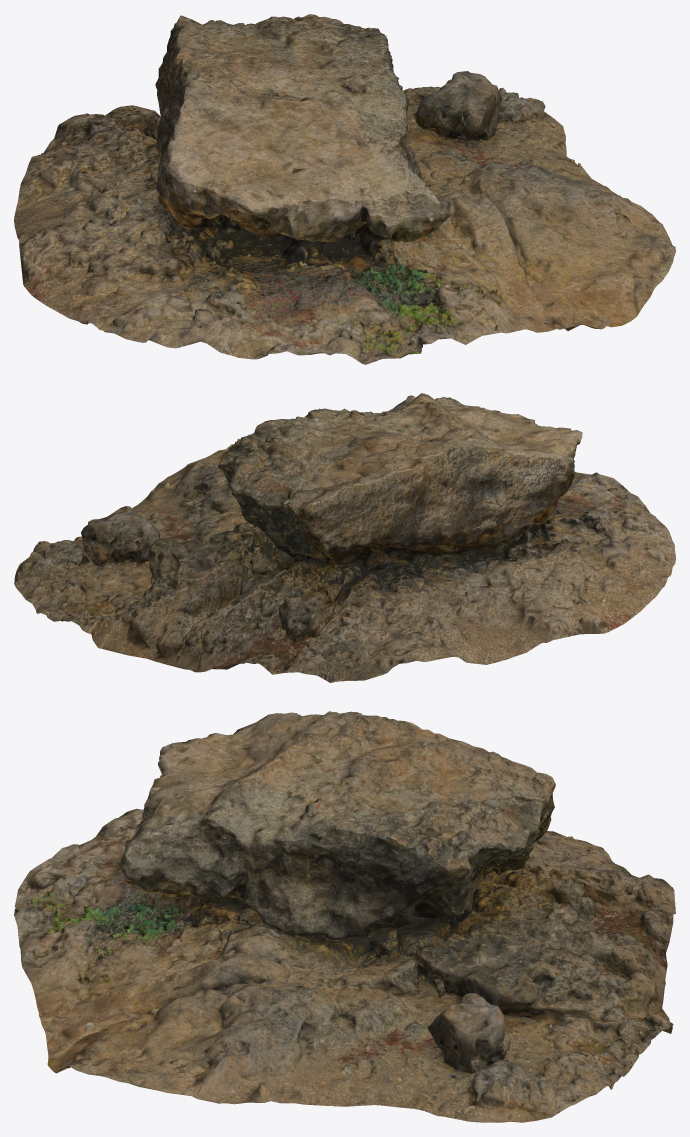
File: coast_rocks_05.glb
3 renders of one model, top to bottom at view 1: azimuth 30°, elevation 25°; view 2: azimuth 150°, elevation 25°; view 3: azimuth 270°, elevation 25°, orthographic. The views are drawn at different scales.
Parts seen in each view (by area): view 1: coast_rocks_05; view 2: coast_rocks_05; view 3: coast_rocks_05.
Part boxes in pixels (x1,y1,x2,y2): coast_rocks_05: [14, 14, 675, 364]; coast_rocks_05: [14, 393, 675, 682]; coast_rocks_05: [14, 711, 675, 1122].
Size of the model in its own units: 2 by 0.6581 by 1.86.
Materials: 1 (1 with a texture image).
